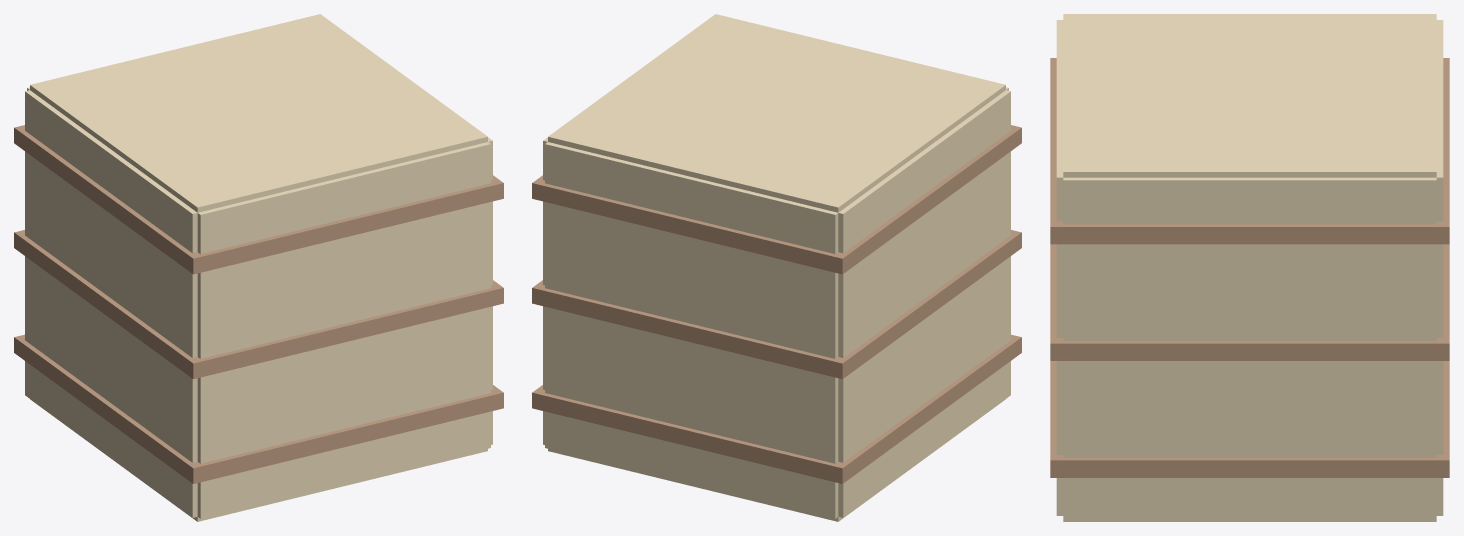
Rendered from crate.glb.
The picture shows the model from 3 angles, left to right: view 1: azimuth 30°, elevation 25°; view 2: azimuth 150°, elevation 25°; view 3: azimuth 270°, elevation 25°; orthographic projection. The views are drawn at different scales.
Visible parts, largest first — view 1: crate; view 2: crate; view 3: crate.
Part boxes in pixels (x1=…): crate: x1=14, y1=14, x2=503, y2=521; crate: x1=532, y1=14, x2=1021, y2=521; crate: x1=1050, y1=14, x2=1449, y2=521.
Bounding box in the file's own units: 0.62 × 0.6 × 0.62.
